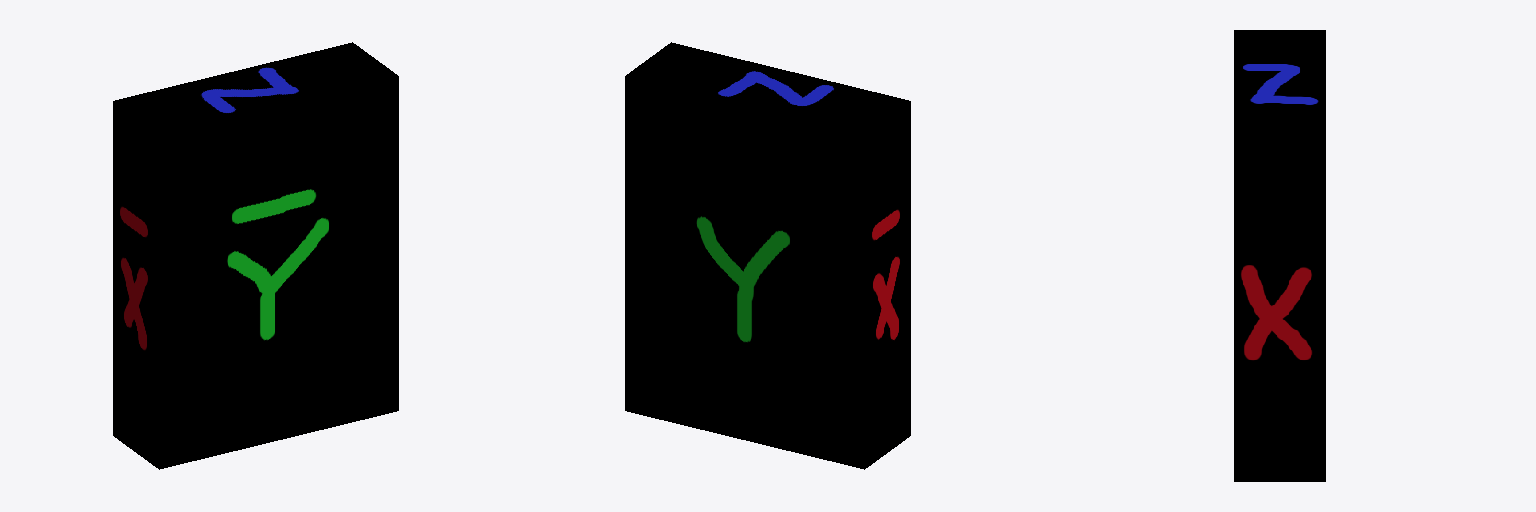
3 views of the same model, side by side, from view 1: azimuth 30°, elevation 25°; view 2: azimuth 150°, elevation 25°; view 3: azimuth 270°, elevation 25° (orthographic).
Parts seen in each view (by area): view 1: Cube; view 2: Cube; view 3: Cube.
Boxes of the visible parts, box(x1,y1,x2,y2) form: Cube: box(113, 42, 398, 469); Cube: box(625, 42, 910, 469); Cube: box(1234, 30, 1325, 481).
Bounding box in the file's own units: 0.6 × 0.8 × 0.2.
1 materials, 1 textured.